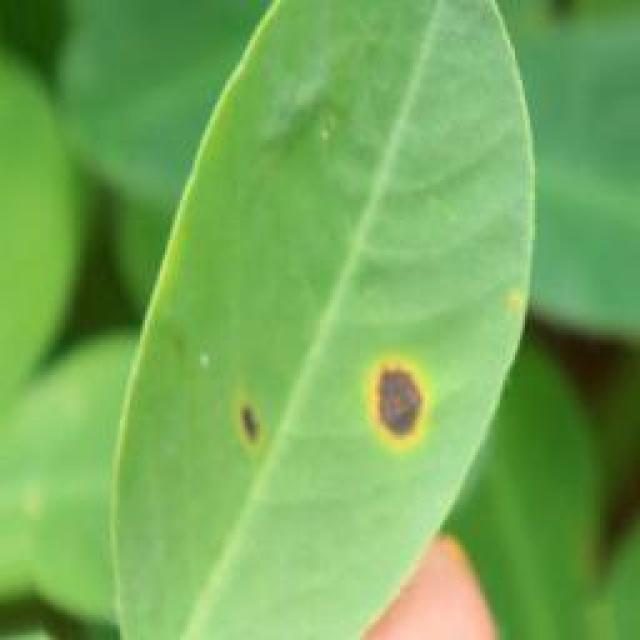Early_leaf_spot: (319, 322, 447, 466), (220, 375, 287, 465)
